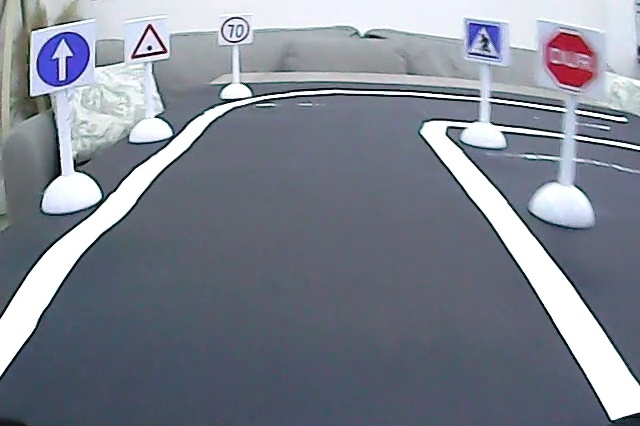green light: (130, 18, 172, 63)
pedestrian crossing: (464, 19, 506, 64)
speed limit 70: (219, 16, 253, 45)
stop sign: (541, 28, 601, 92)
